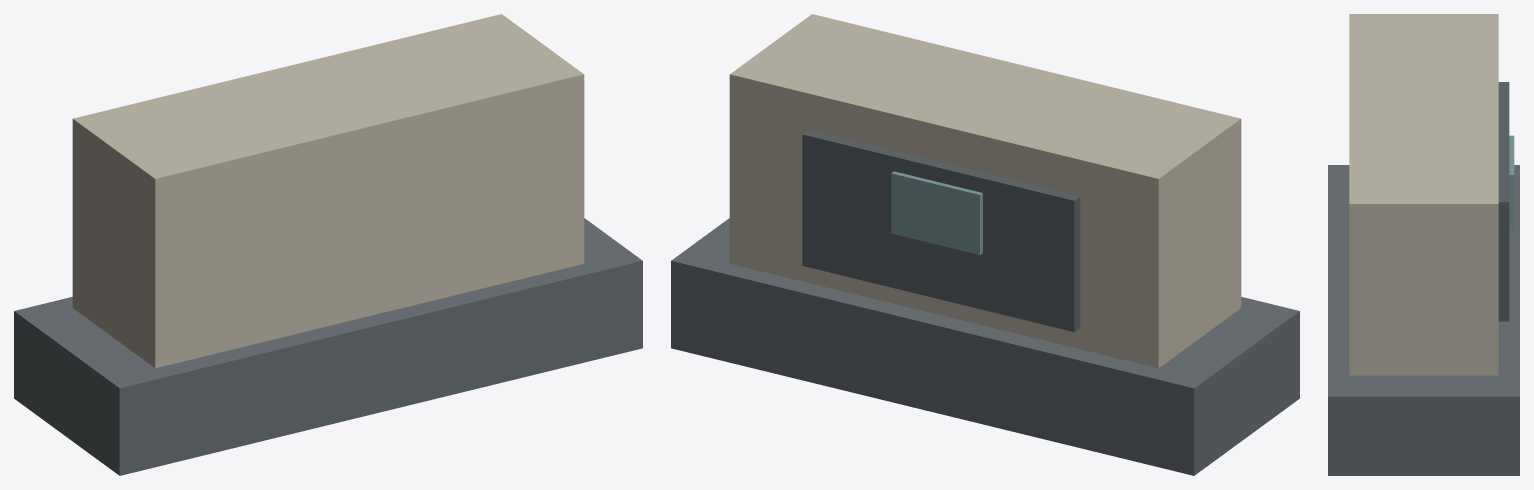
Rendered from iz3_health_pharmacy_01.glb.
3 renders of one model, left to right at view 1: azimuth 30°, elevation 25°; view 2: azimuth 150°, elevation 25°; view 3: azimuth 270°, elevation 25°, orthographic. The views are drawn at different scales.
Visible parts, largest first — view 1: cabinet, base; view 2: cabinet, base, panel, display; view 3: cabinet, base, panel, display.
Part boxes in pixels (x1,y1,x2,y2): cabinet: (72,14,584,368); base: (14,218,642,475); cabinet: (729,14,1241,368); base: (671,218,1299,475); panel: (802,130,1080,331); display: (891,171,982,254); cabinet: (1349,14,1498,375); base: (1328,165,1519,475); panel: (1498,82,1509,321); display: (1509,135,1514,229).
Size of the model in its own units: 2 by 1.01 by 0.7.
